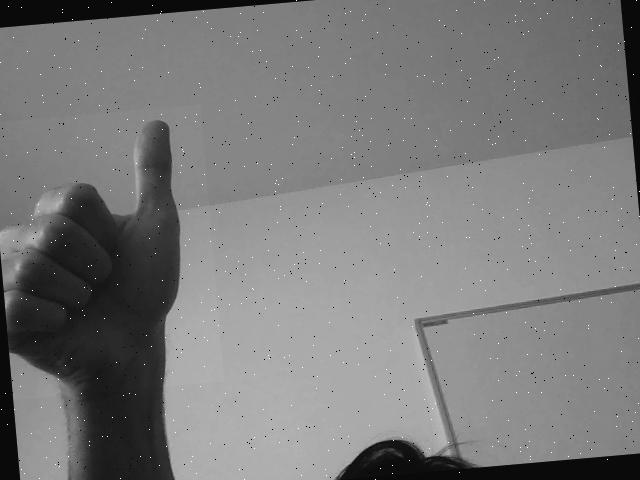good: (0, 104, 223, 399)
